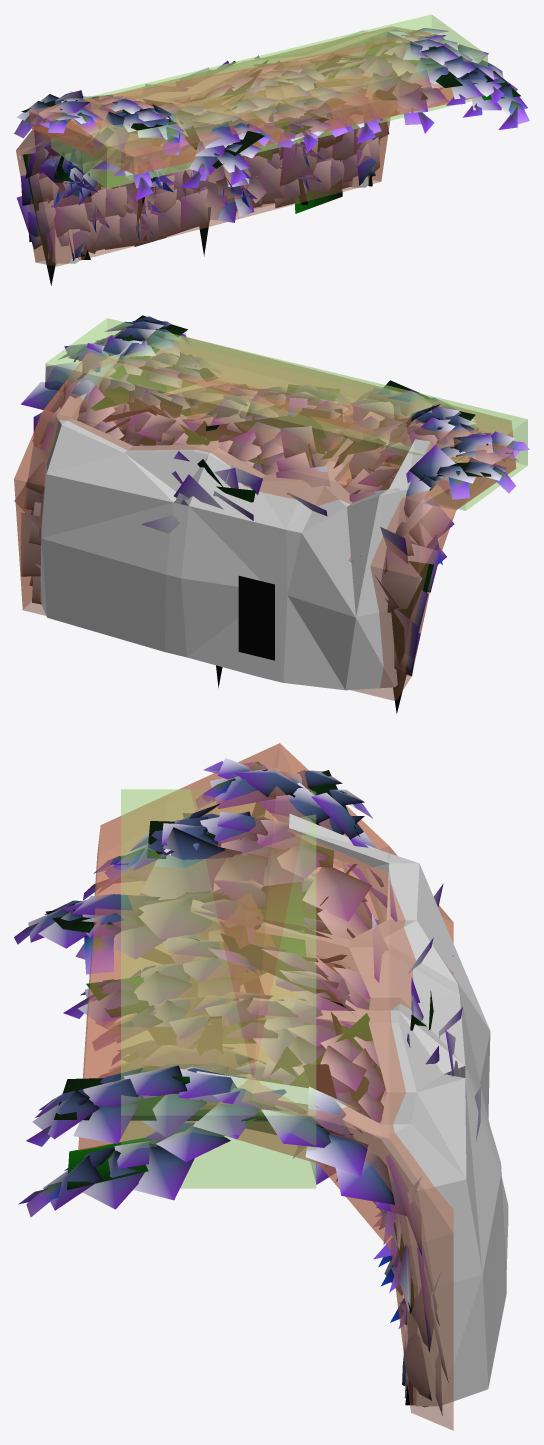
Rendered from tro_1_2_wallblocker_overhang.dae.
3 renders of one model, top to bottom at view 1: azimuth 30°, elevation 25°; view 2: azimuth 150°, elevation 25°; view 3: azimuth 270°, elevation 25°, orthographic. The views are drawn at different scales.
Parts seen in each view (by area): view 1: tree_oak_bush_a950, Colmesh-1, tree_oak_bush_a220; view 2: Colmesh-1, tree_oak_bush_a950, tree_oak_bush_a220; view 3: Colmesh-1, tree_oak_bush_a950, tree_oak_bush_a220.
Boxes of the visible parts, bbox=[...] form: tree_oak_bush_a950: bbox=[14, 28, 529, 285]; Colmesh-1: bbox=[16, 14, 487, 266]; tree_oak_bush_a220: bbox=[17, 29, 408, 253]; Colmesh-1: bbox=[14, 318, 527, 700]; tree_oak_bush_a950: bbox=[21, 315, 529, 713]; tree_oak_bush_a220: bbox=[14, 356, 527, 672]; Colmesh-1: bbox=[78, 743, 508, 1430]; tree_oak_bush_a950: bbox=[14, 758, 480, 1415]; tree_oak_bush_a220: bbox=[94, 770, 480, 1390].
Size of the model in its own units: 22.4 by 12.8 by 11.2.
